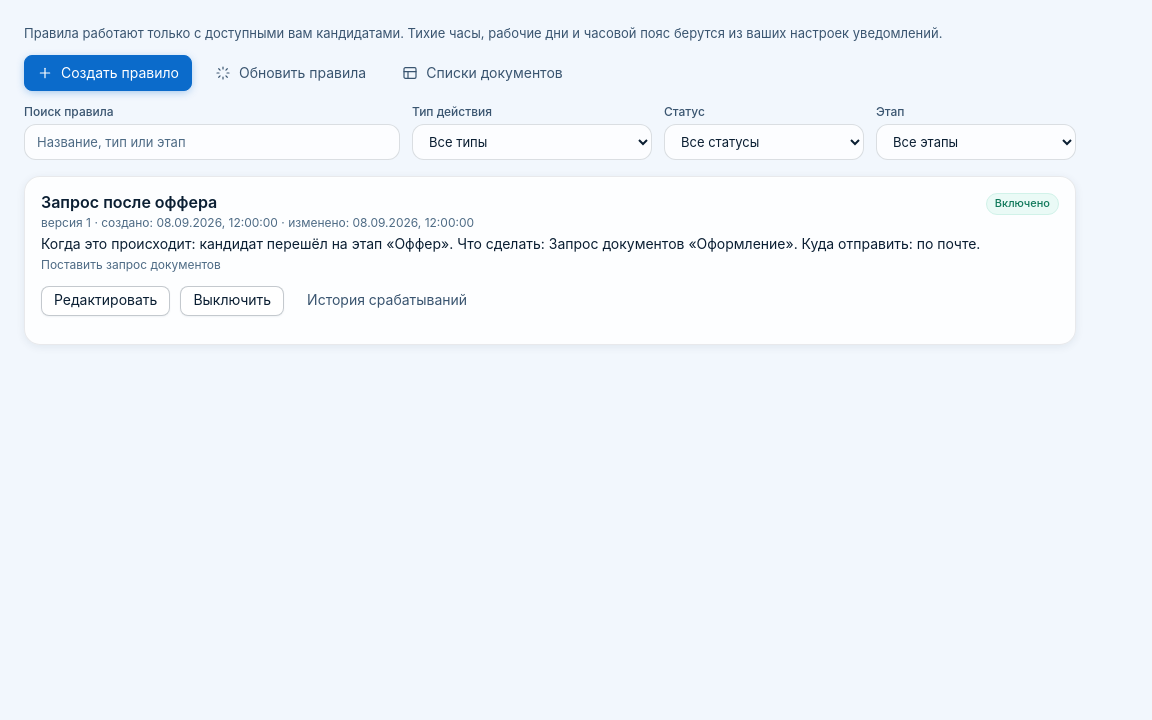
Мои правила › disables only after an explicit confirmation, without deleting, and loads immutable history
Check: the heading "Запрос после оффера" is shown, box [41,192,217,212]
What coordinates should you click on to do the following:
click the button "Выключить"
I would click on:
 (232, 300)
Its box is [180,286,284,316].
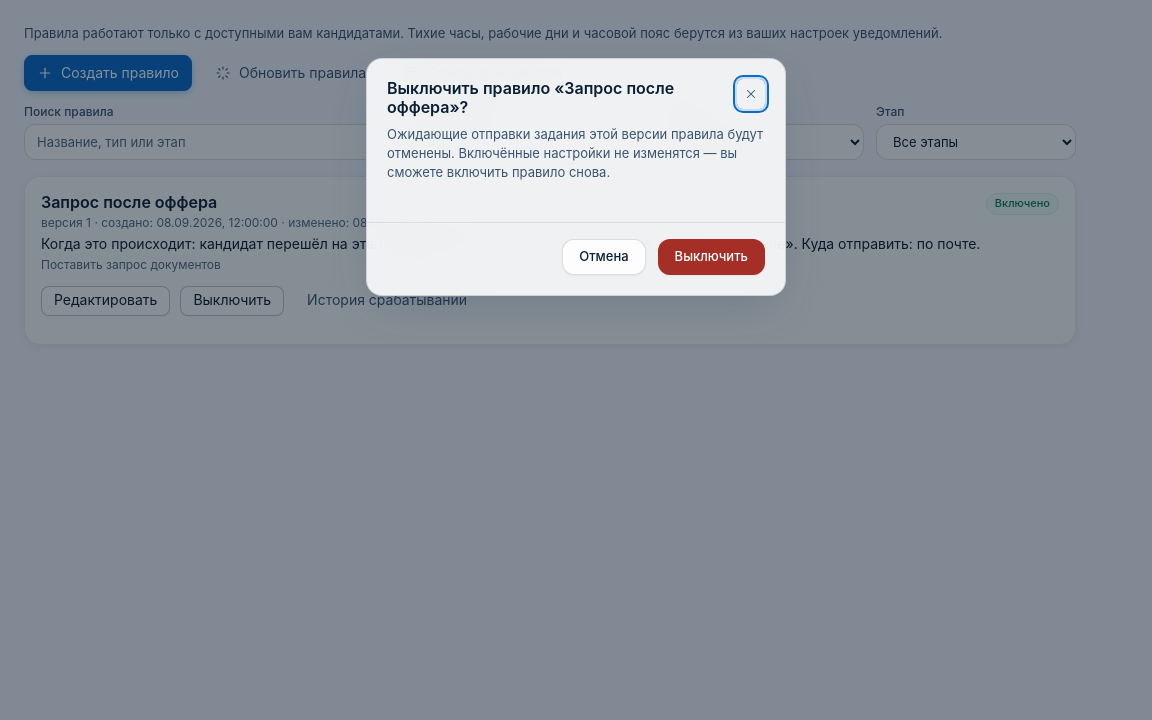
Check: the dialog shows "Выключить правило «Запрос после оффера»?", box [387,78,674,117]
What coordinates should you click on to do the following:
click the button "Выключить"
I would click on:
 (711, 256)
Its box is [658,238,765,274].
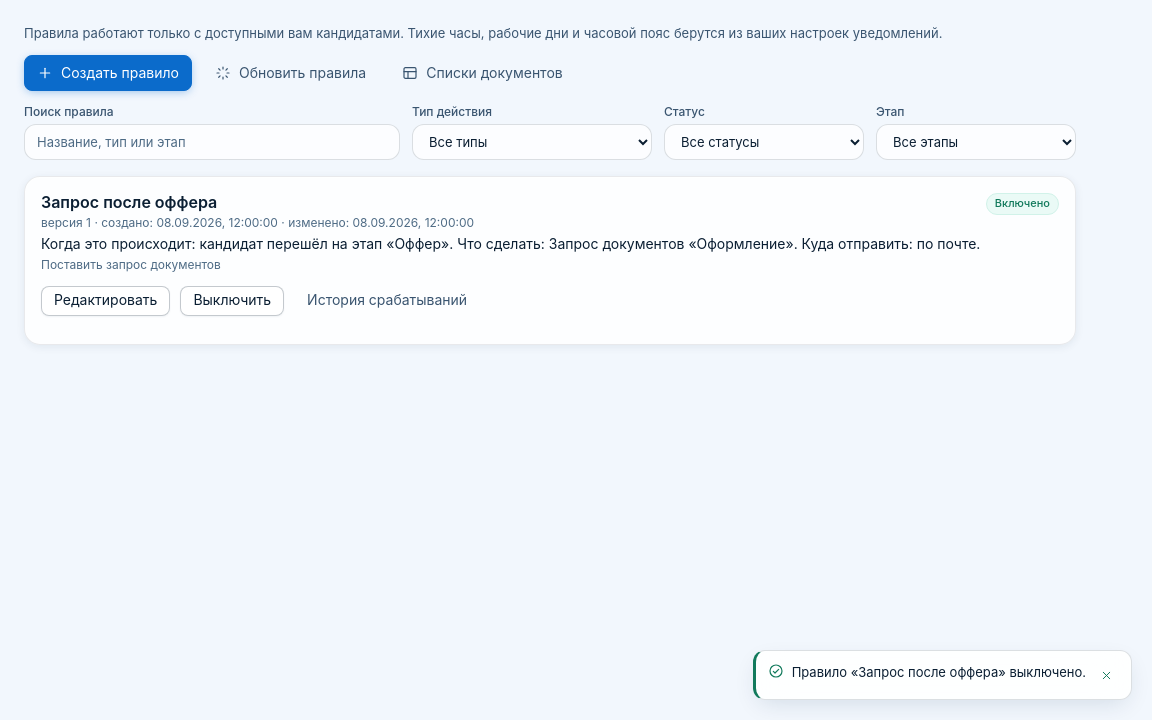
What coordinates should you click on to do the following:
click the button "История срабатываний"
I would click on:
 (387, 300)
Its box is [294,286,480,316].
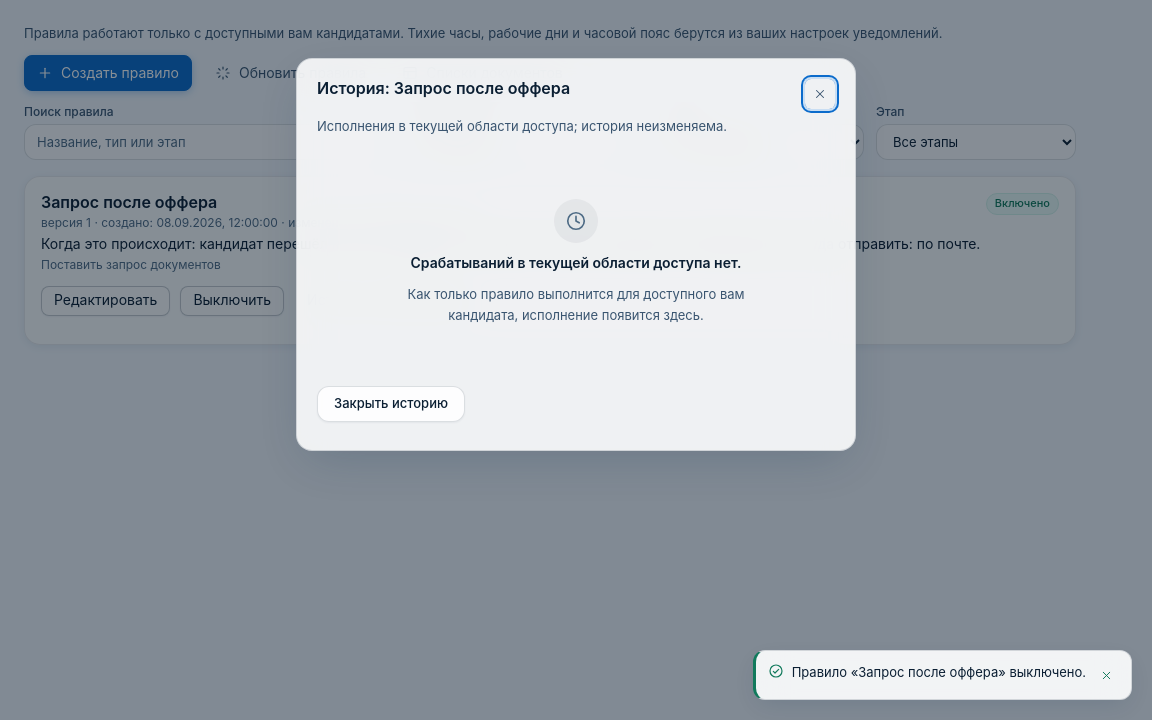
Check: the heading "Срабатываний в текущей области доступа нет." is shown, box [410,255,741,272]
